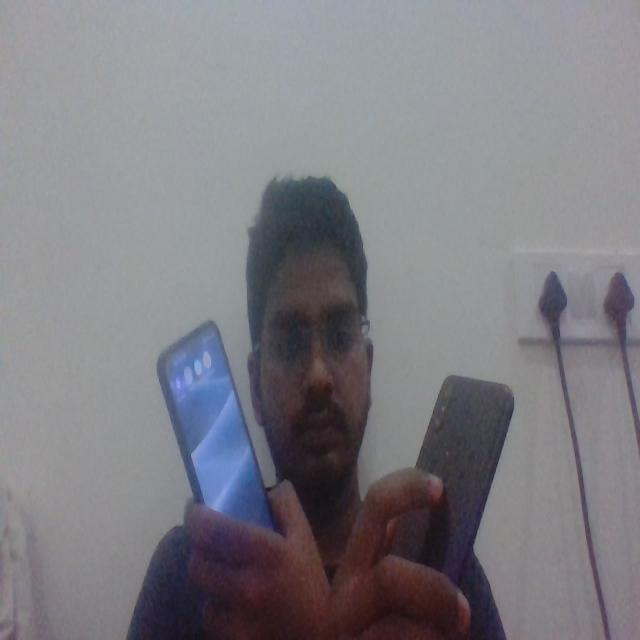Phone: (152, 316, 278, 535), (391, 369, 518, 575)
